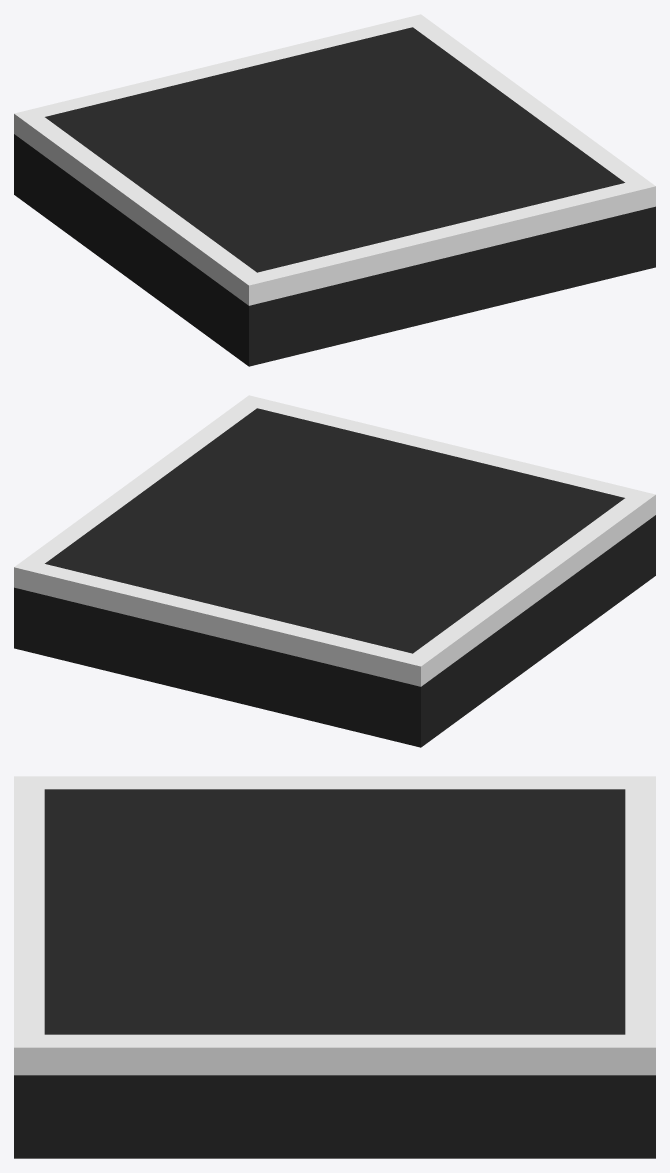
File: Exports-1.obj
3 renders of one model, top to bottom at view 1: azimuth 30°, elevation 25°; view 2: azimuth 150°, elevation 25°; view 3: azimuth 270°, elevation 25°, orthographic. The views are drawn at different scales.
Bounding box in the file's own units: 2.1 × 0.4 × 2.1.
1 material, 1 textured.
